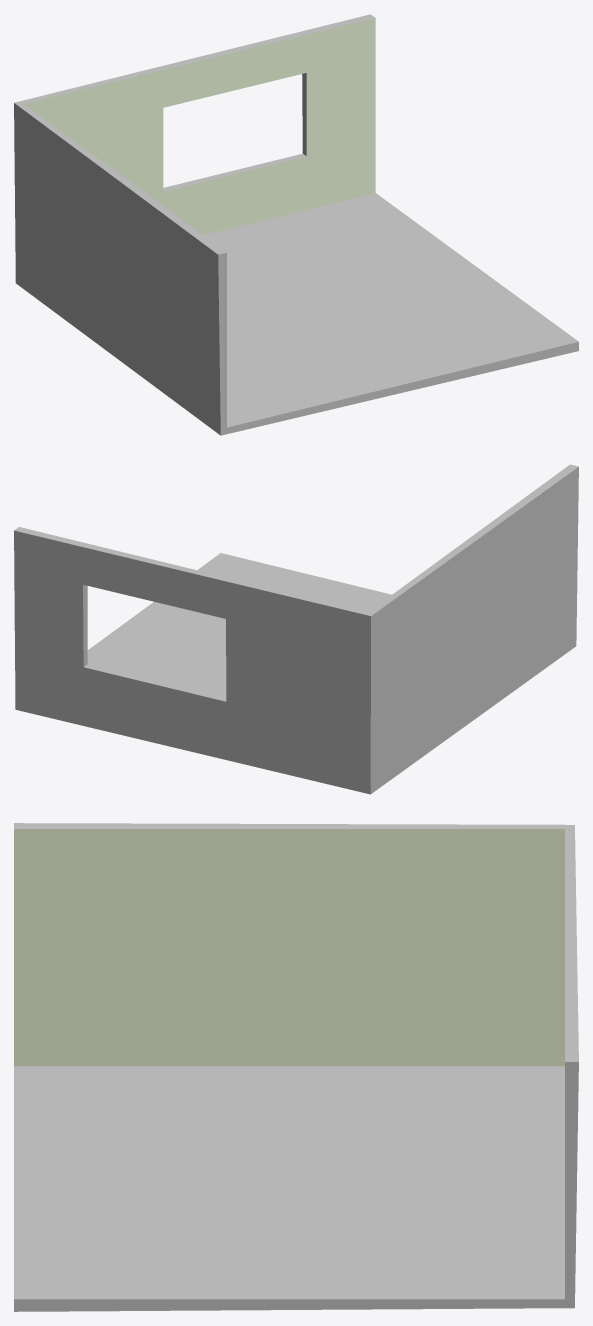
Rendered from room3.fbx.
3 renders of one model, top to bottom at view 1: azimuth 30°, elevation 25°; view 2: azimuth 150°, elevation 25°; view 3: azimuth 270°, elevation 25°, orthographic. The views are drawn at different scales.
Visible parts, largest first — view 1: Plane; view 2: Plane; view 3: Plane.
Boxes of the visible parts, <box> form: Plane: <box>14,14,578,435</box>; Plane: <box>14,464,578,794</box>; Plane: <box>14,823,578,1311</box>.
Bounding box in the file's own units: 1228 × 599 × 1228.
